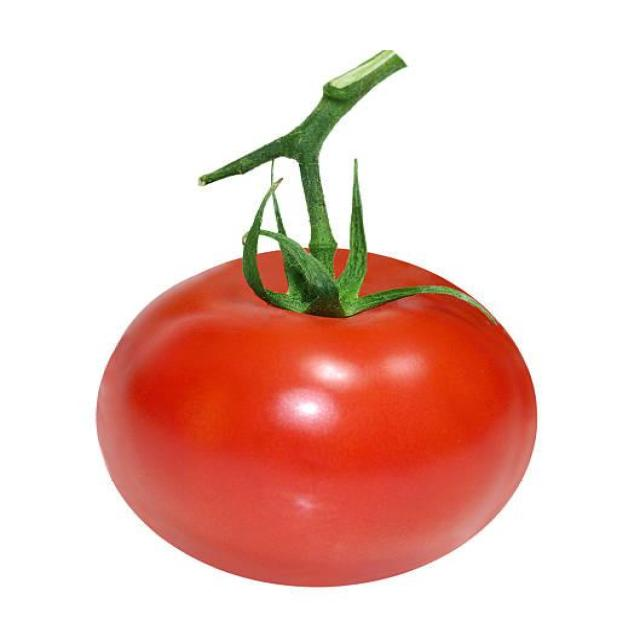Tomato: (97, 248, 536, 585)
